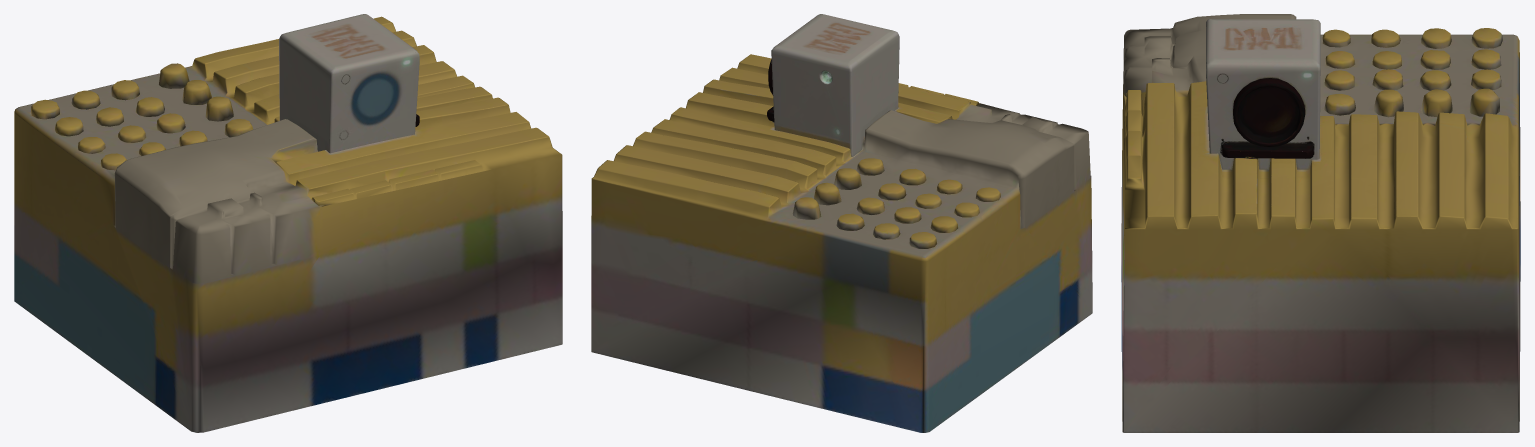
File: object_5_asset_833d3565.glb
The picture shows the model from 3 angles, left to right: view 1: azimuth 30°, elevation 25°; view 2: azimuth 150°, elevation 25°; view 3: azimuth 270°, elevation 25°; orthographic projection. The views are drawn at different scales.
Parts seen in each view (by area): view 1: tripo_node_5d42a749-dea8-485b-b9a9-2eb015116ad4; view 2: tripo_node_5d42a749-dea8-485b-b9a9-2eb015116ad4; view 3: tripo_node_5d42a749-dea8-485b-b9a9-2eb015116ad4.
Part boxes in pixels (x1,y1,x2,y2): tripo_node_5d42a749-dea8-485b-b9a9-2eb015116ad4: (14,14,562,432); tripo_node_5d42a749-dea8-485b-b9a9-2eb015116ad4: (591,14,1092,432); tripo_node_5d42a749-dea8-485b-b9a9-2eb015116ad4: (1121,14,1520,432).
Size of the model in its own units: 0.998 by 0.752 by 0.8652.
Materials: 1 (1 with a texture image).
